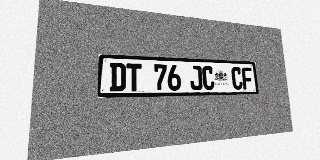6: (167, 65, 181, 91)
7: (153, 64, 168, 91)
C: (202, 66, 215, 90), (231, 67, 243, 90)
D: (109, 63, 126, 91)
F: (241, 67, 253, 90)
J: (189, 65, 203, 90)
T: (126, 63, 142, 91)
